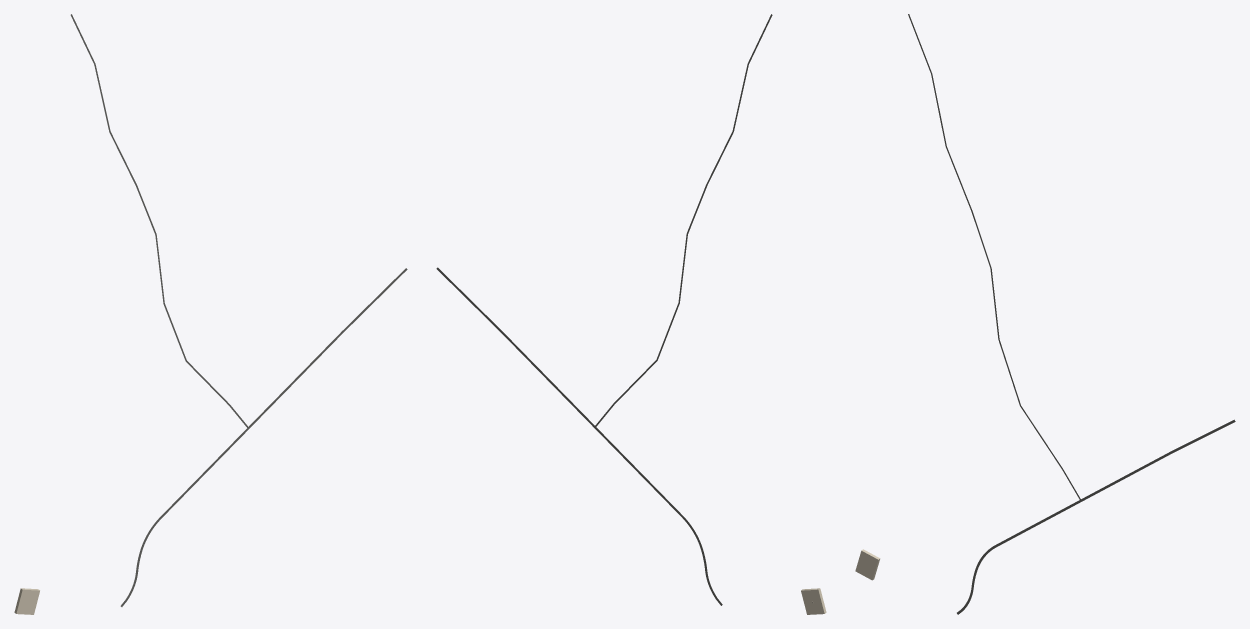
File: historic-palestine-13_27_3548_3214.glb
3 renders of one model, left to right at view 1: azimuth 30°, elevation 25°; view 2: azimuth 150°, elevation 25°; view 3: azimuth 330°, elevation 25°, orthographic. The views are drawn at different scales.
Visible parts, largest first — view 1: Road .001, Road, Building_; view 2: Road .001, Road, Building_; view 3: Road .001, Road.
Boxes of the visible parts, left/top/right/bottom form: Road .001: left=120, top=268, right=407, bottom=606; Road: left=70, top=14, right=248, bottom=427; Building_: left=14, top=588, right=39, bottom=614; Road .001: left=436, top=267, right=722, bottom=605; Road: left=595, top=14, right=772, bottom=426; Building_: left=801, top=588, right=826, bottom=614; Road .001: left=957, top=419, right=1235, bottom=614; Road: left=908, top=14, right=1080, bottom=500.
Size of the model in its own units: 870 by 1287 by 8.7.
